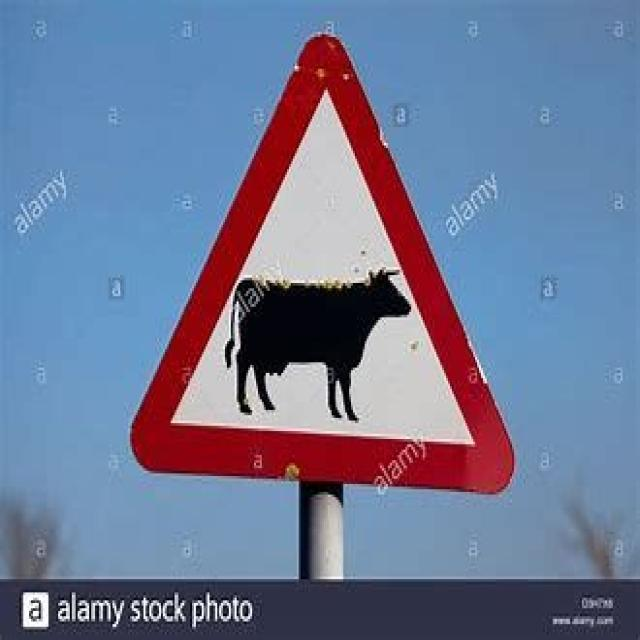CATTLE: (127, 27, 517, 502)
